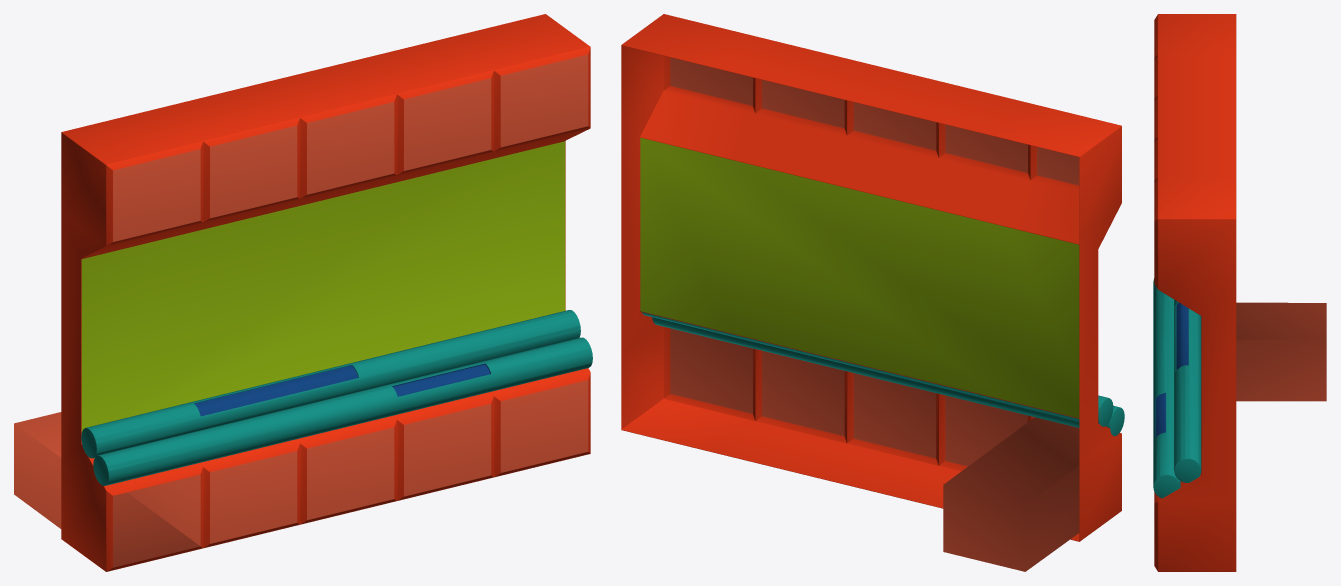
File: mur 3e salle avec vent.fbx
3 views of the same model, side by side, from view 1: azimuth 30°, elevation 25°; view 2: azimuth 150°, elevation 25°; view 3: azimuth 270°, elevation 25° (orthographic). The views are drawn at different scales.
Visible parts, largest first — view 1: Mur 3e salle; view 2: Mur 3e salle; view 3: Mur 3e salle.
Boxes of the visible parts, <box> form: Mur 3e salle: <box>14,14,592,571</box>; Mur 3e salle: <box>621,14,1124,571</box>; Mur 3e salle: <box>1153,14,1326,571</box>.
Bounding box in the file's own units: 1240 × 995 × 443.
